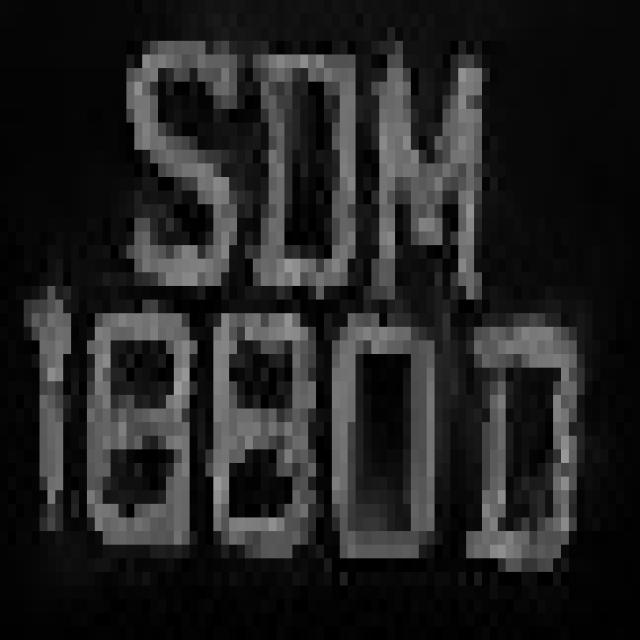0: (316, 259, 443, 599)
1: (16, 272, 71, 545)
8: (71, 259, 198, 558), (205, 286, 316, 585)
D: (237, 13, 363, 326), (482, 272, 585, 558)
M: (356, 0, 506, 300)
S: (118, 41, 253, 286)
